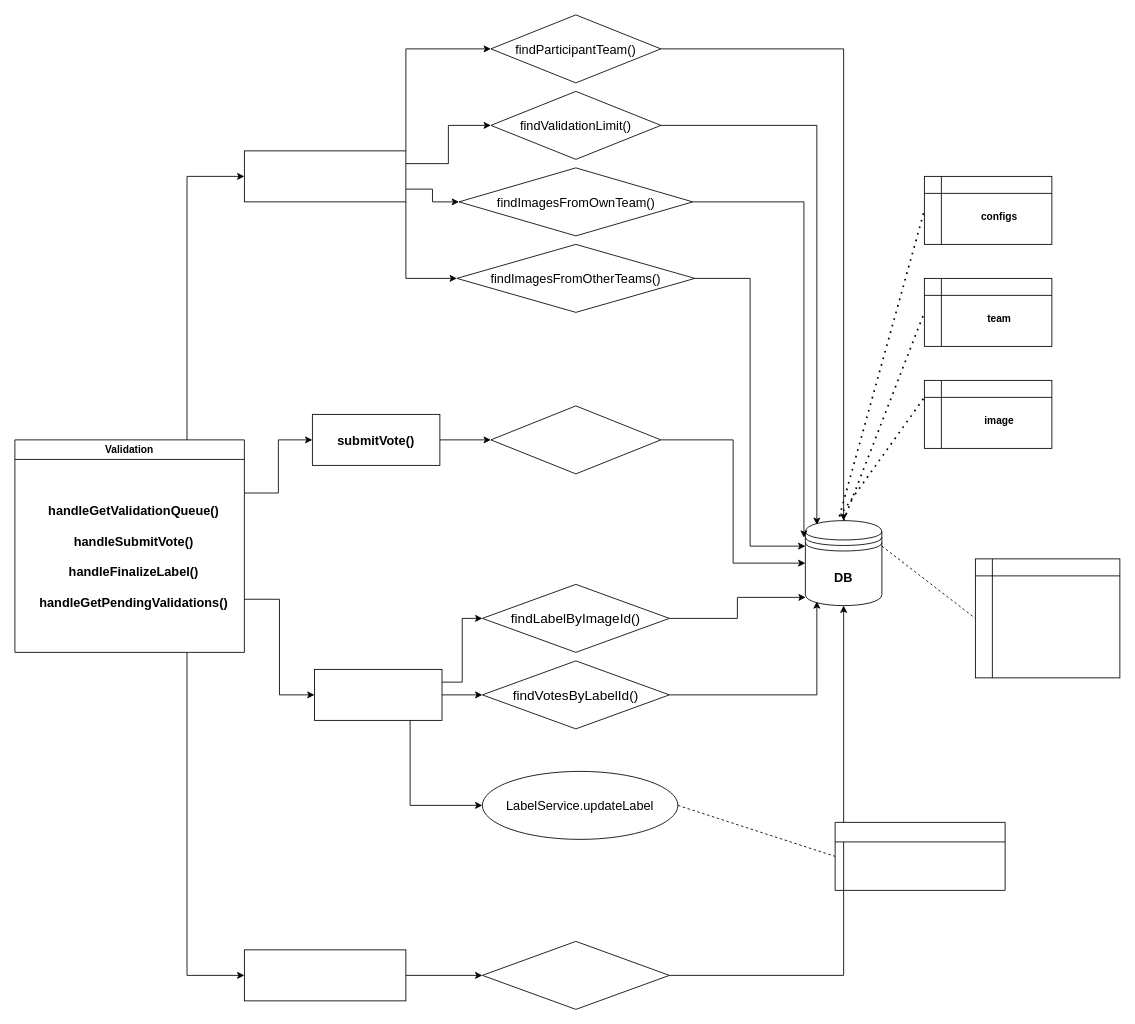
The diagram is 1135 pixels wide and 1024 high, and some of its shapes have lost their labels. Here are the shapes that lost their labels. From the top down, the box of each, then its label:
(244, 150, 406, 202): getValidationQueue()
(490, 405, 661, 474): insertVote()
(975, 558, 1120, 678): label_validation
(314, 669, 442, 720): finalizeLabel()
(834, 822, 1005, 890): Label Module
(244, 949, 406, 1001): getPendingValidations()
(482, 941, 669, 1009): findPendingByComp()
